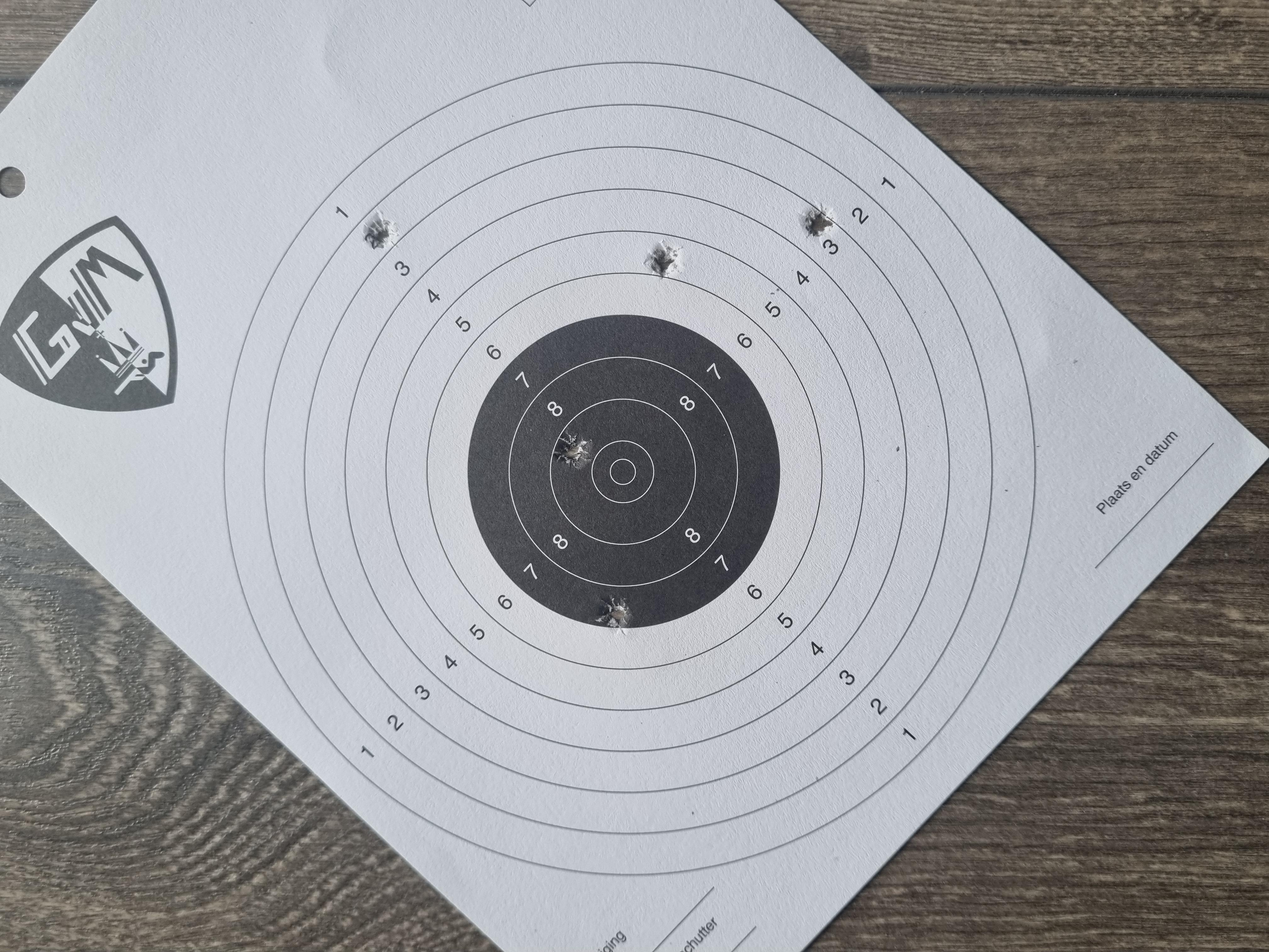hole: (896, 483, 949, 513), (937, 273, 988, 300), (421, 447, 473, 473), (645, 415, 692, 441), (952, 603, 999, 626)
